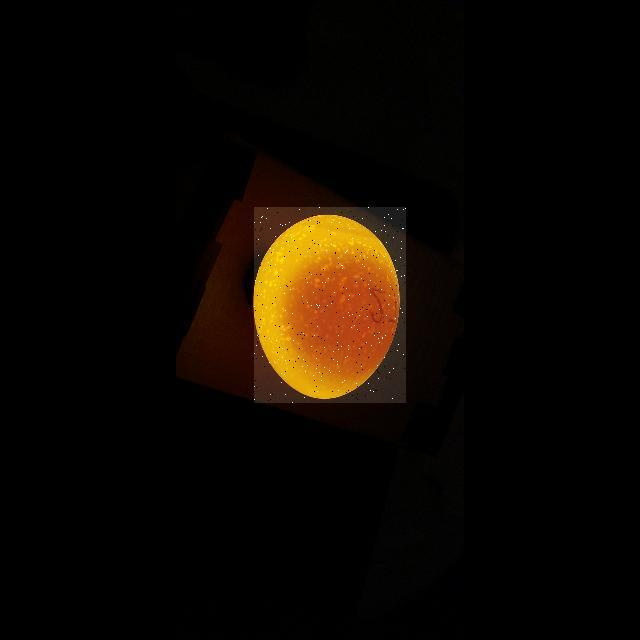Fertile: (254, 207, 406, 403)
